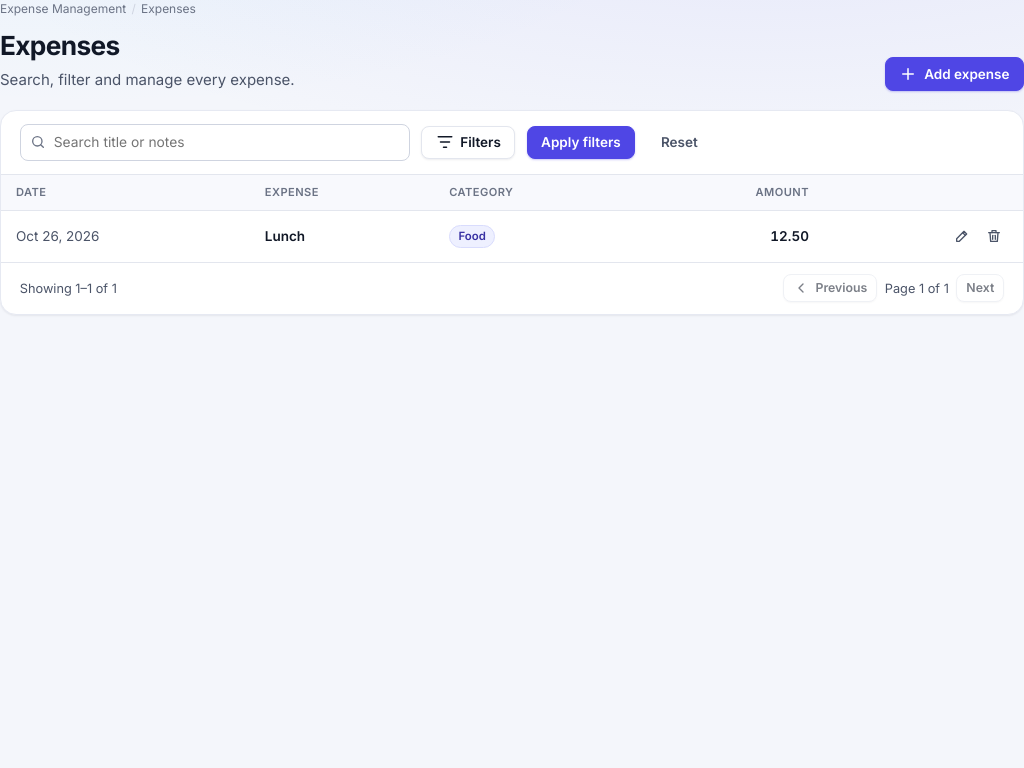
ExpensesPage › delete → confirmation dialog first, then DELETE and a success toast
The image size is (1024, 768).
Expected: the cell "Lunch" is shown, [250, 211, 434, 262]
Click the 2nd button named "Delete Lunch". click: (994, 236)
box: [980, 222, 1008, 250]
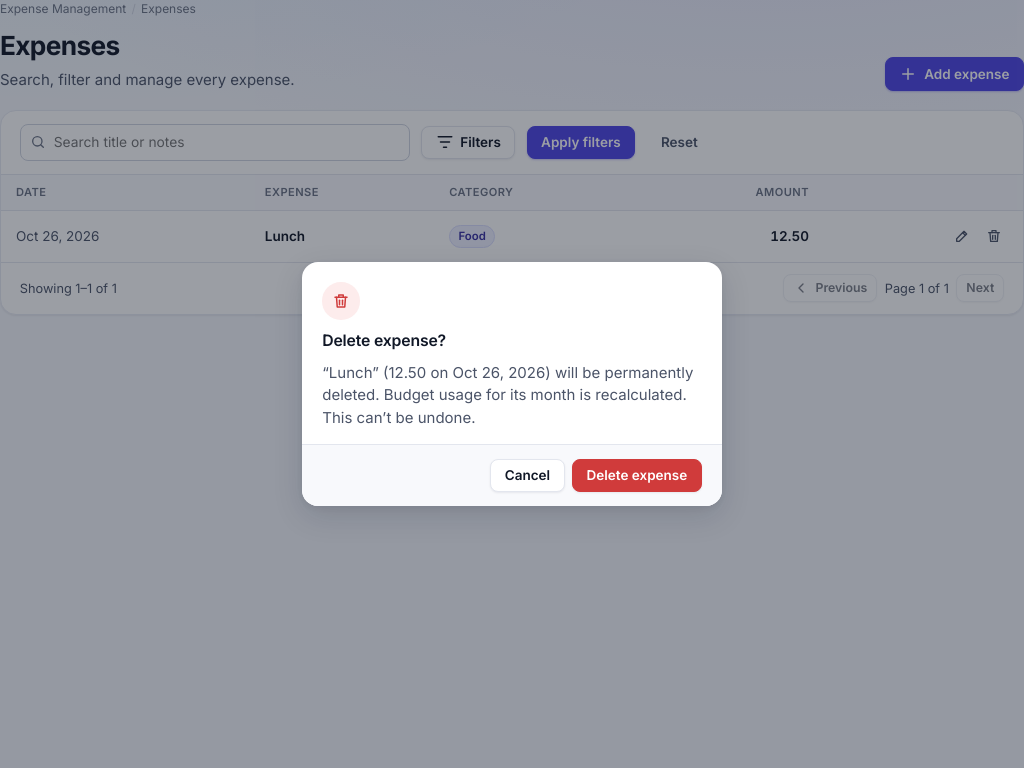
Result: the dialog "Delete expense?" shows "“Lunch” (12.50" at [302, 262, 722, 506]
Click the button "Delete expense". click: (637, 476)
box: [572, 459, 702, 492]
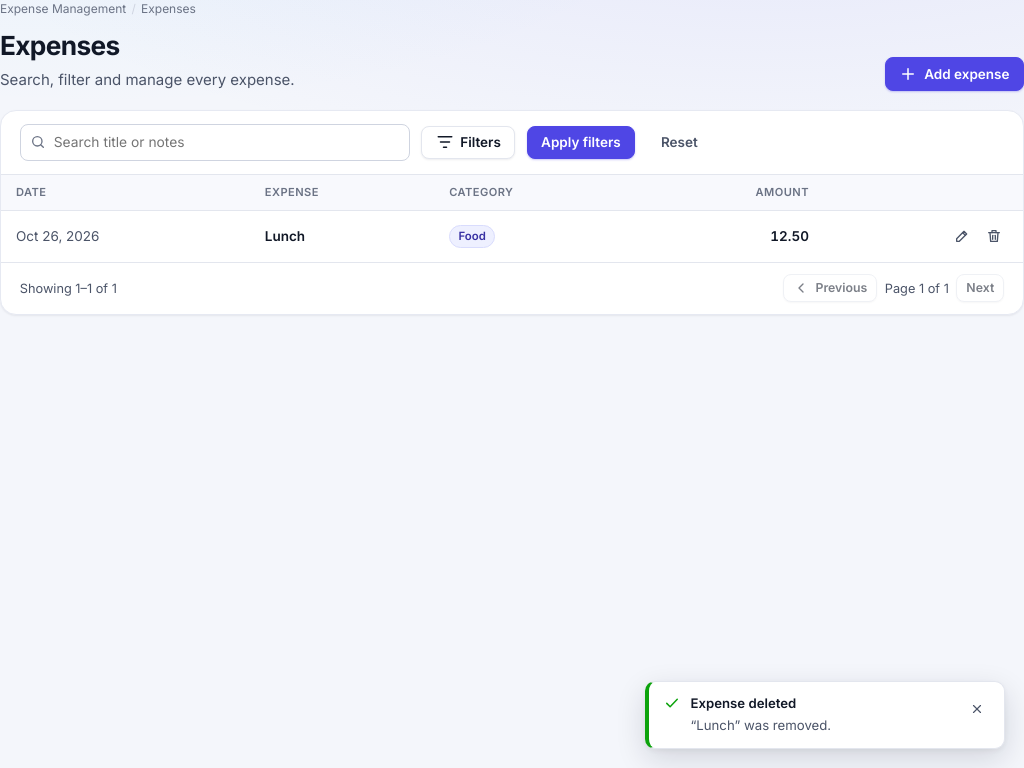
Result: the text "Expense deleted" is shown at [690, 695, 796, 711]
